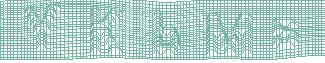K: (87, 3, 125, 57)
M: (205, 10, 253, 59)
Y: (21, 2, 63, 53)
b: (151, 8, 182, 58)
s: (271, 16, 300, 50)
